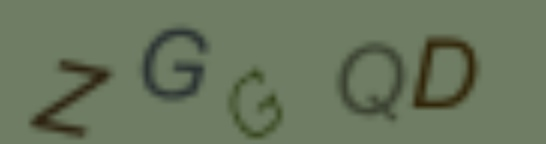D: (409, 32, 483, 115)
G: (139, 21, 212, 101), (223, 62, 286, 140)
Q: (329, 38, 411, 124)
Z: (26, 53, 116, 142)
